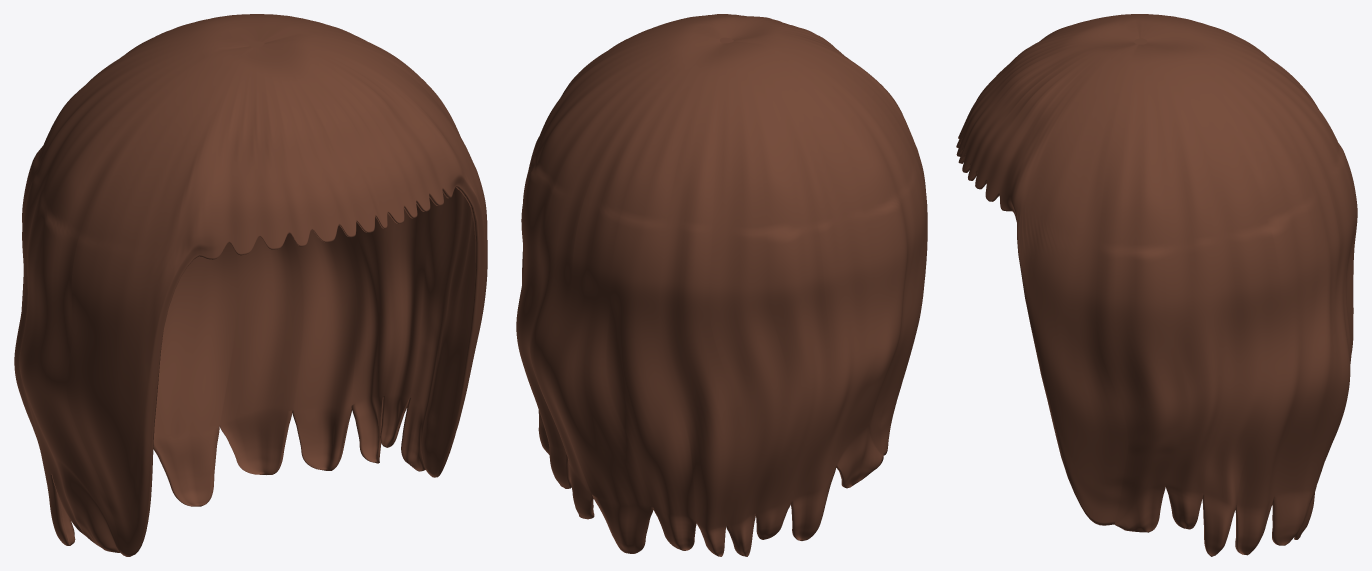
File: long-cowboy.glb
3 views of the same model, side by side, from view 1: azimuth 30°, elevation 25°; view 2: azimuth 150°, elevation 25°; view 3: azimuth 270°, elevation 25° (orthographic). The views are drawn at different scales.
Parts seen in each view (by area): view 1: Hair / rounded long fringe; view 2: Hair / rounded long fringe; view 3: Hair / rounded long fringe.
Boxes of the visible parts, box(x1,y1,x2,y2) form: Hair / rounded long fringe: box(14, 14, 487, 556); Hair / rounded long fringe: box(516, 14, 927, 556); Hair / rounded long fringe: box(956, 14, 1357, 556).
Size of the model in its own units: 0.8534 by 1.05 by 0.7801.
